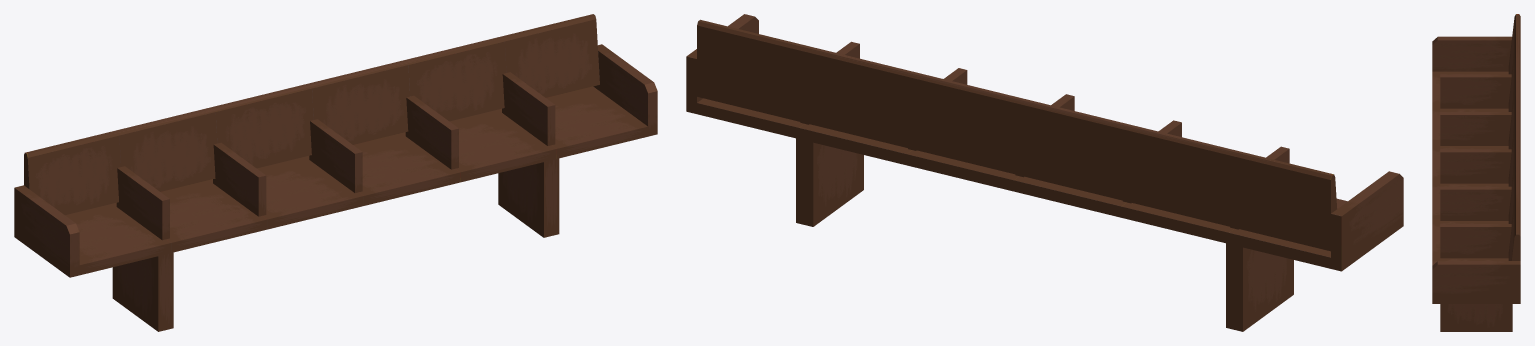
File: SW_PROP_PlatformSeating.fbx
3 views of the same model, side by side, from view 1: azimuth 30°, elevation 25°; view 2: azimuth 150°, elevation 25°; view 3: azimuth 270°, elevation 25° (orthographic). The views are drawn at different scales.
Visible parts, largest first — view 1: SW_PROP_PlatformSeating; view 2: SW_PROP_PlatformSeating; view 3: SW_PROP_PlatformSeating.
Part boxes in pixels (x1=…): SW_PROP_PlatformSeating: x1=14, y1=14, x2=657, y2=331; SW_PROP_PlatformSeating: x1=686, y1=14, x2=1403, y2=331; SW_PROP_PlatformSeating: x1=1432, y1=14, x2=1520, y2=331.
Size of the model in its own units: 305 by 81 by 50.
